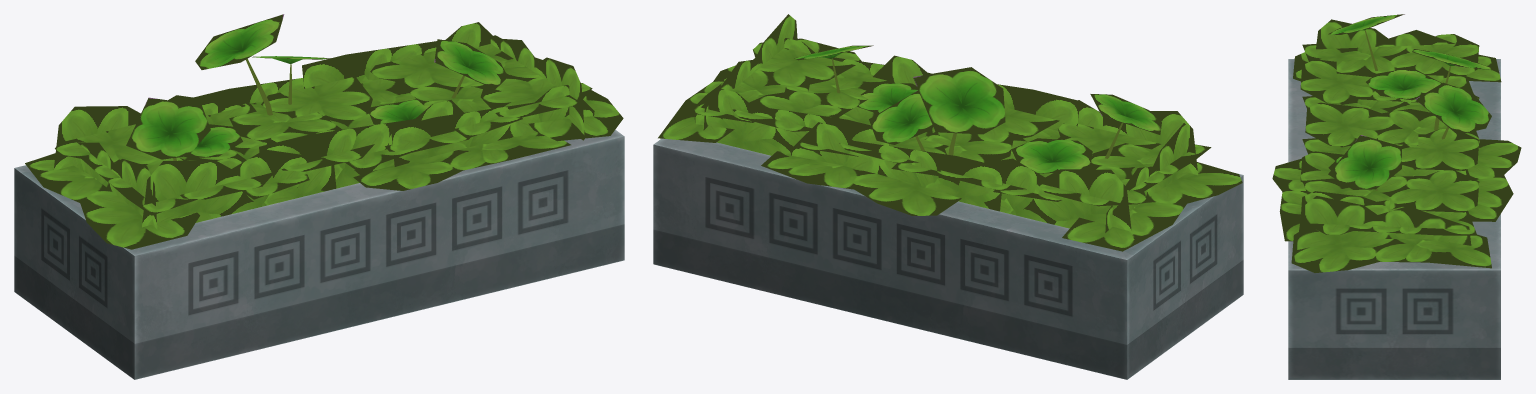
File: vase_03.fbx
3 renders of one model, left to right at view 1: azimuth 30°, elevation 25°; view 2: azimuth 150°, elevation 25°; view 3: azimuth 270°, elevation 25°, orthographic. The views are drawn at different scales.
Visible parts, largest first — view 1: vase_03, vase_03_plants; view 2: vase_03, vase_03_plants; view 3: vase_03_plants, vase_03.
Boxes of the visible parts, x1,y1,x2,y2 form: vase_03: (14,130,624,379); vase_03_plants: (25,14,623,249); vase_03: (653,138,1243,379); vase_03_plants: (658,14,1242,251); vase_03_plants: (1272,14,1521,272); vase_03: (1288,59,1500,379).
Bounding box in the file's own units: 112 × 48.6 × 52.69.
